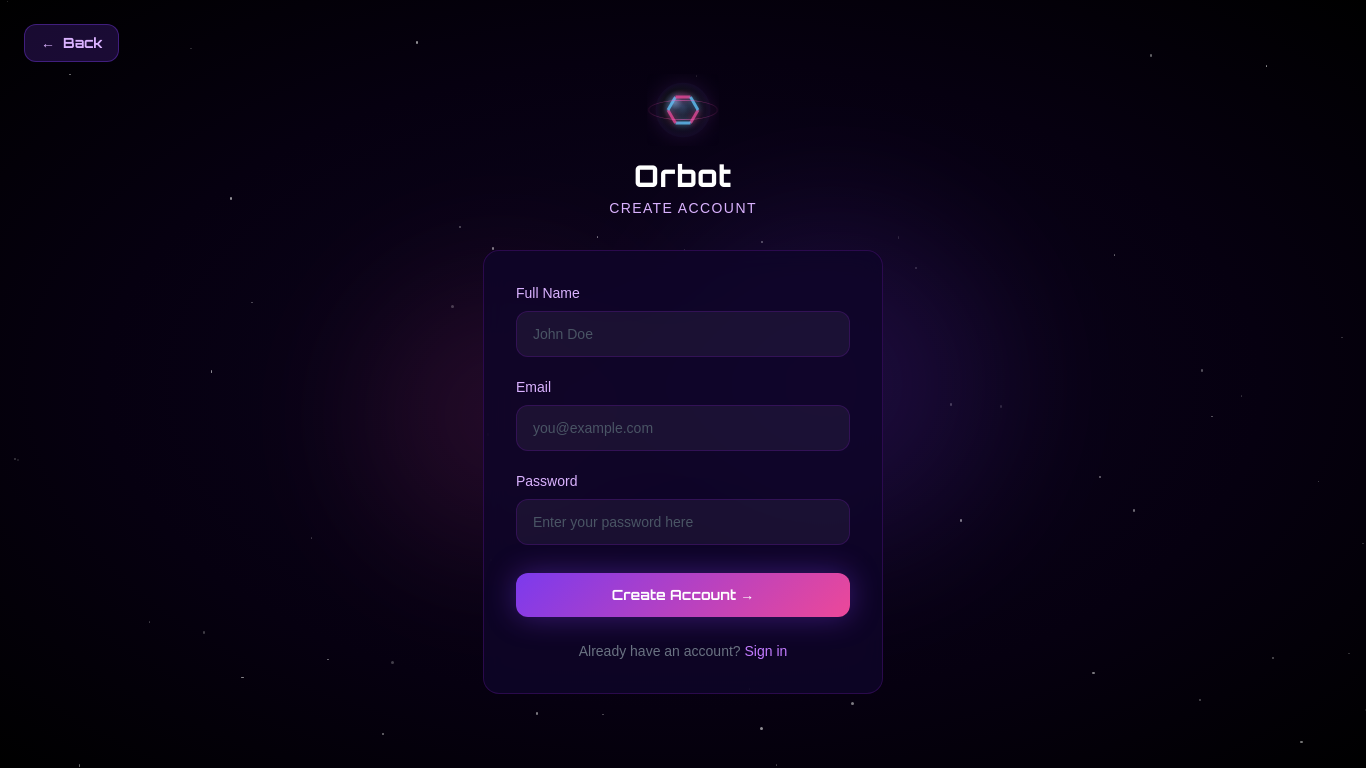
Register Page › shows error on failed registration
The image size is (1366, 768).
Type "John" into the field with placeholder "John Doe". click: (683, 334)
box: [516,311,850,357]
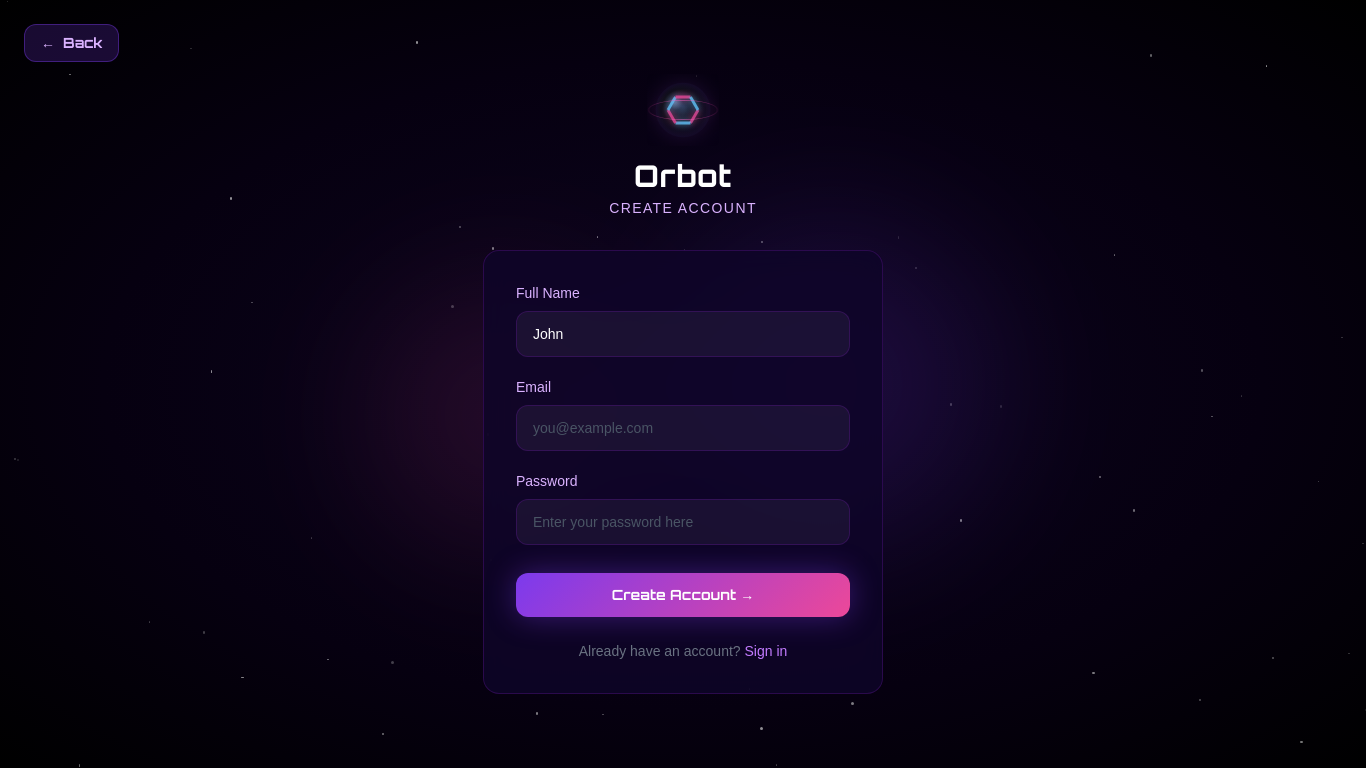
Type "existing@email.com" into the field with placeholder "you@example.com". click: (683, 428)
box: [516,405,850,451]
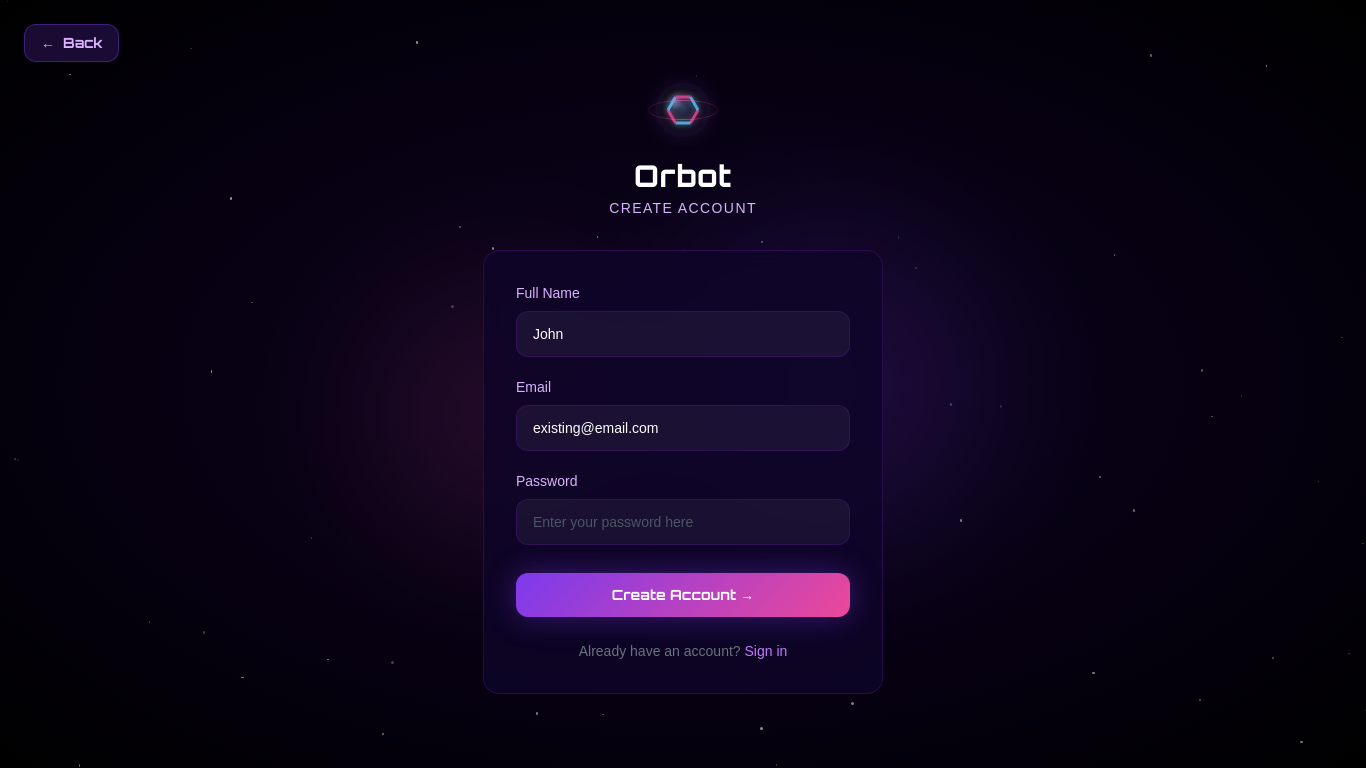
Type "password123" into the password field with placeholder "Enter your password here". click: (683, 522)
box: [516,499,850,545]
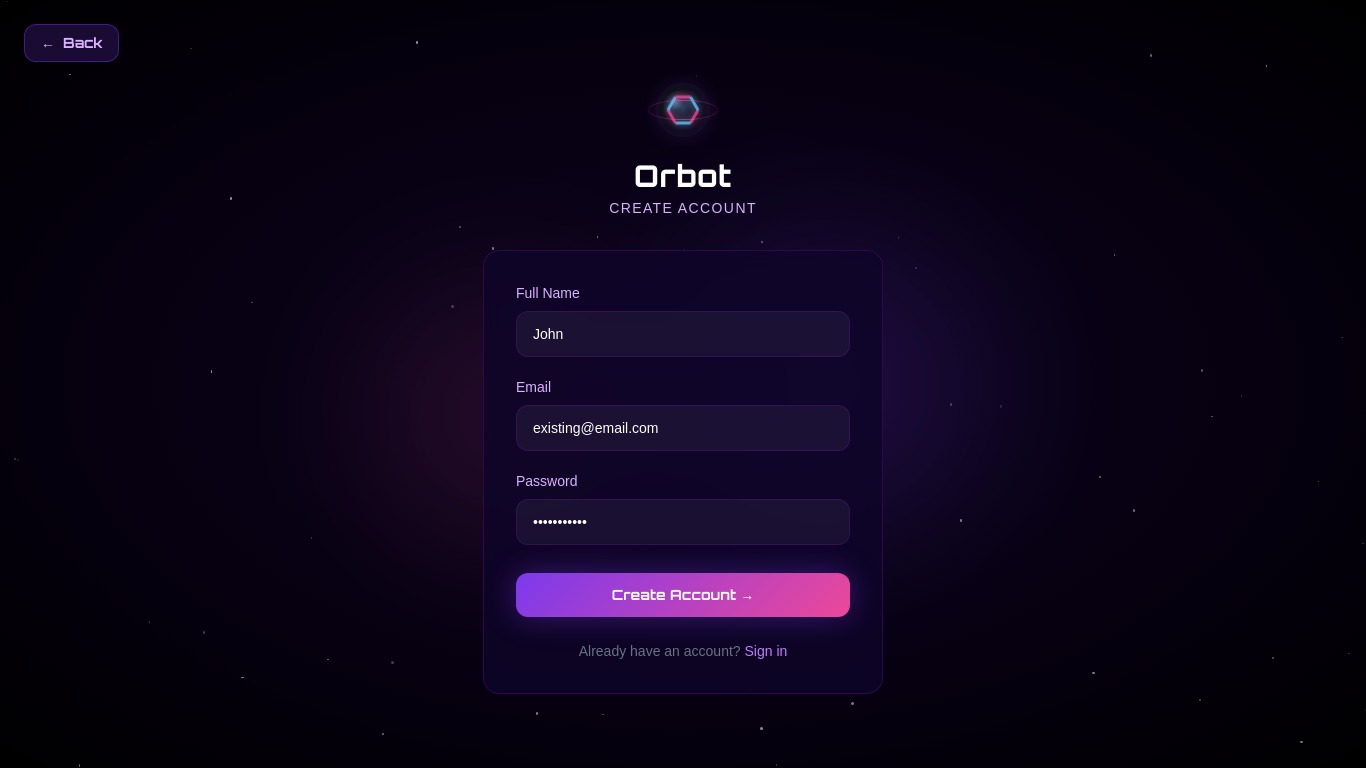
Click the button "Create Account →". click: (683, 595)
box: [516,573,850,617]
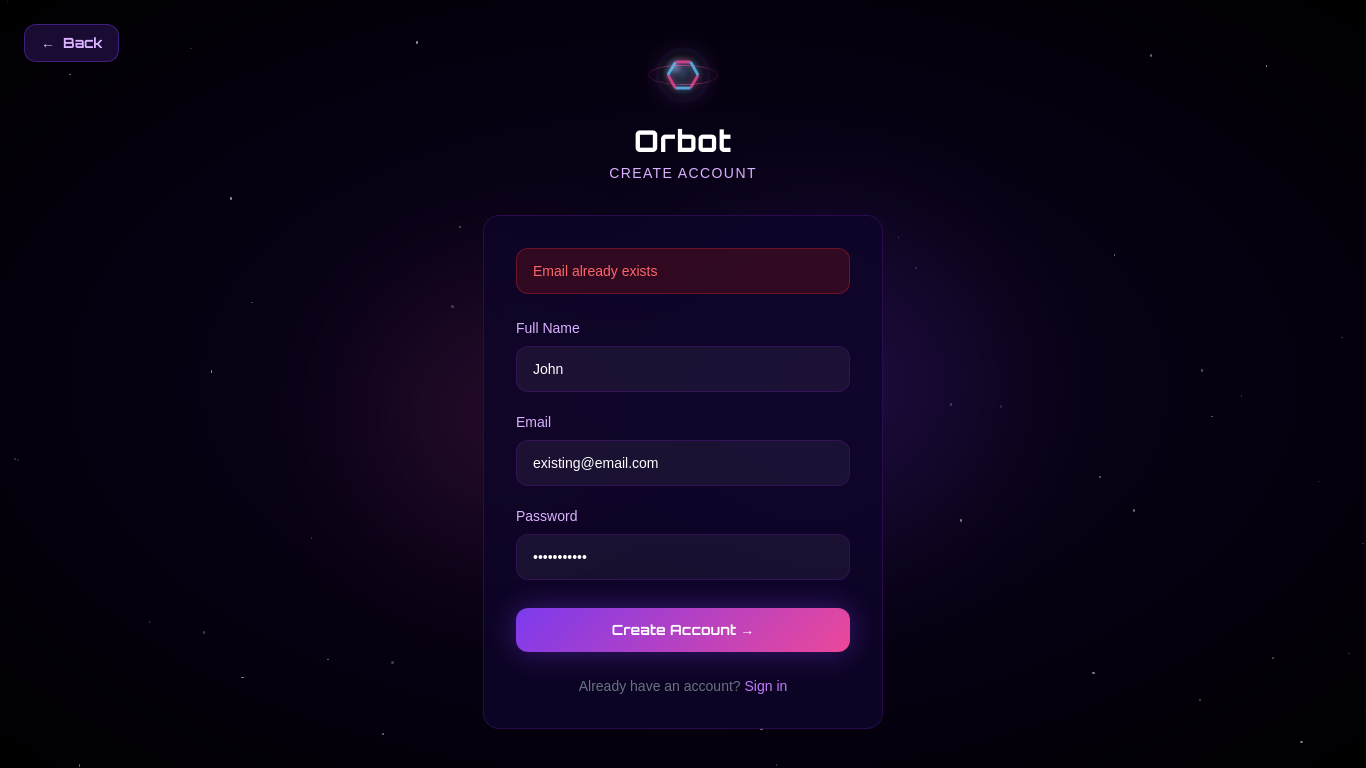
Expected: the text "Email already exists" is shown, [516,248,850,294]
